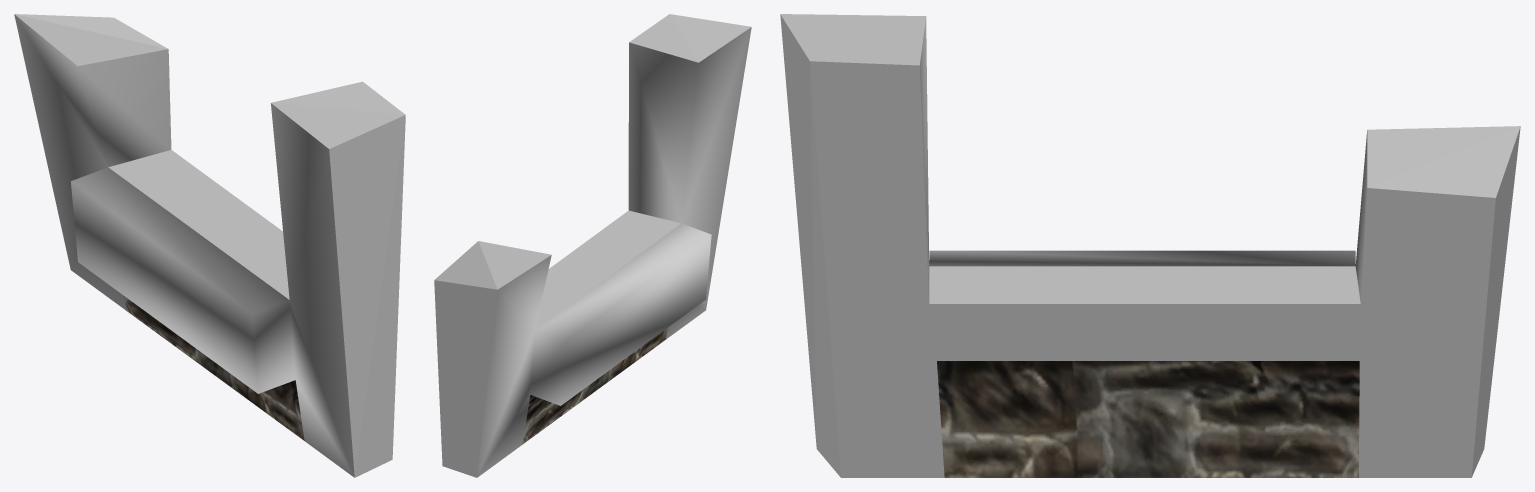
Rendered from wreckedbuildinghwall02.obj.
3 views of the same model, side by side, from view 1: azimuth 30°, elevation 25°; view 2: azimuth 150°, elevation 25°; view 3: azimuth 270°, elevation 25° (orthographic). The views are drawn at different scales.
Visible parts, largest first — view 1: WRECKEDBUILDINGHWALL020, WRECKEDBUILDINGHWALL021; view 2: WRECKEDBUILDINGHWALL020, WRECKEDBUILDINGHWALL021; view 3: WRECKEDBUILDINGHWALL020, WRECKEDBUILDINGHWALL021.
Part boxes in pixels (x1,y1,x2,y2): WRECKEDBUILDINGHWALL020: [14, 14, 405, 477]; WRECKEDBUILDINGHWALL021: [124, 296, 304, 440]; WRECKEDBUILDINGHWALL020: [434, 14, 751, 477]; WRECKEDBUILDINGHWALL021: [522, 328, 667, 444]; WRECKEDBUILDINGHWALL020: [780, 14, 1520, 477]; WRECKEDBUILDINGHWALL021: [937, 361, 1359, 477].
Bounding box in the file's own units: 1.07 × 3.41 × 5.5.
